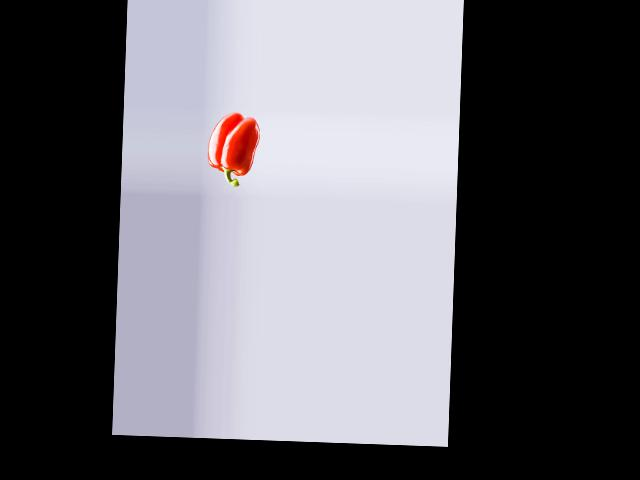bell_pepper: (204, 113, 261, 188)
